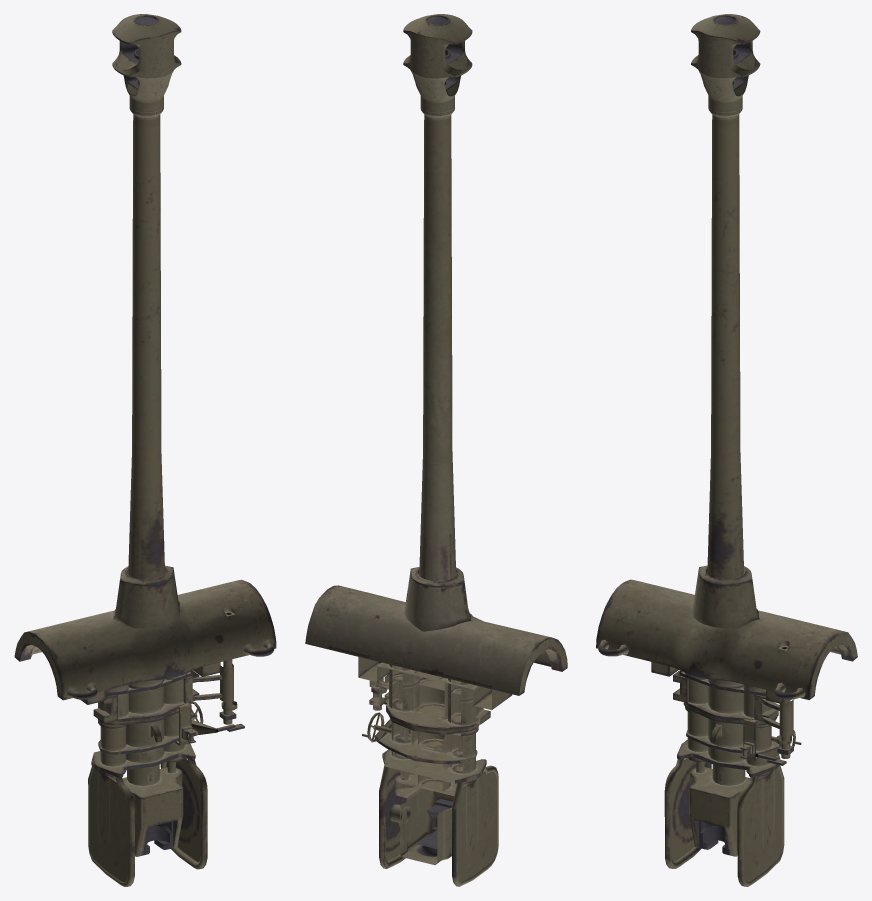
Rendered from Gun_04.glb.
3 renders of one model, left to right at view 1: azimuth 30°, elevation 25°; view 2: azimuth 150°, elevation 25°; view 3: azimuth 330°, elevation 25°, orthographic.
Visible parts, largest first — view 1: set_0_group_0; view 2: set_0_group_0; view 3: set_0_group_0.
Part boxes in pixels (box(x1,y1,x2,y2)): set_0_group_0: box(14, 14, 276, 886); set_0_group_0: box(305, 14, 567, 886); set_0_group_0: box(596, 14, 857, 886).
Size of the model in its own units: 1.36 by 5.15 by 0.6357.
1 material, 1 textured.
